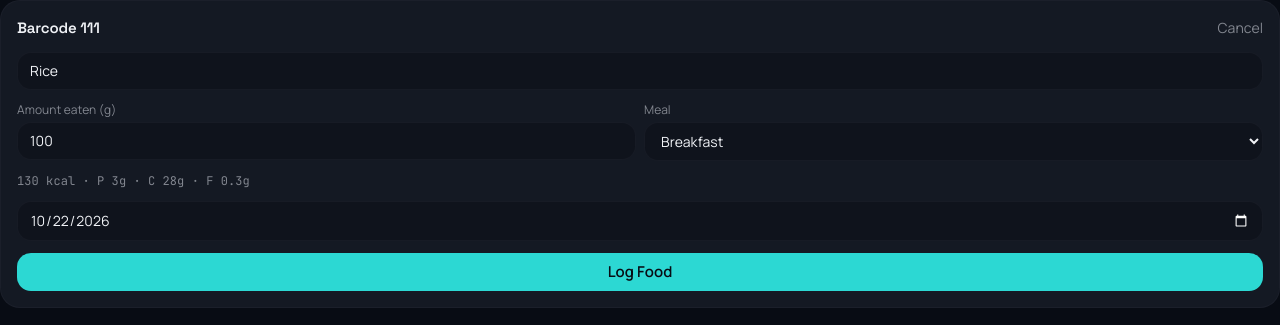
Test: BarcodeFoodForm › rescales macros when the gram amount is edited
Replace the text in the number field named "Grams eaten" with "200". click: {"x": 326, "y": 140}
box: [17, 122, 636, 160]
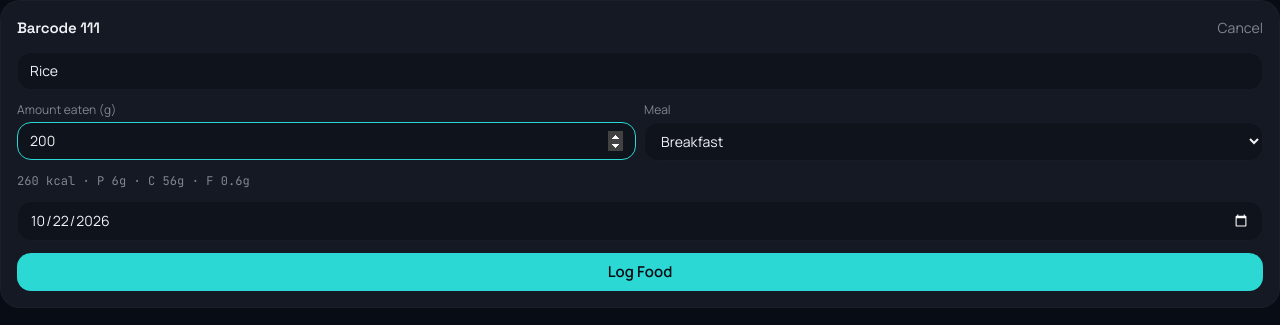
Result: the text "260 kcal · P 6g · C 56g · F 0.6g" is shown at [17, 172, 250, 188]
